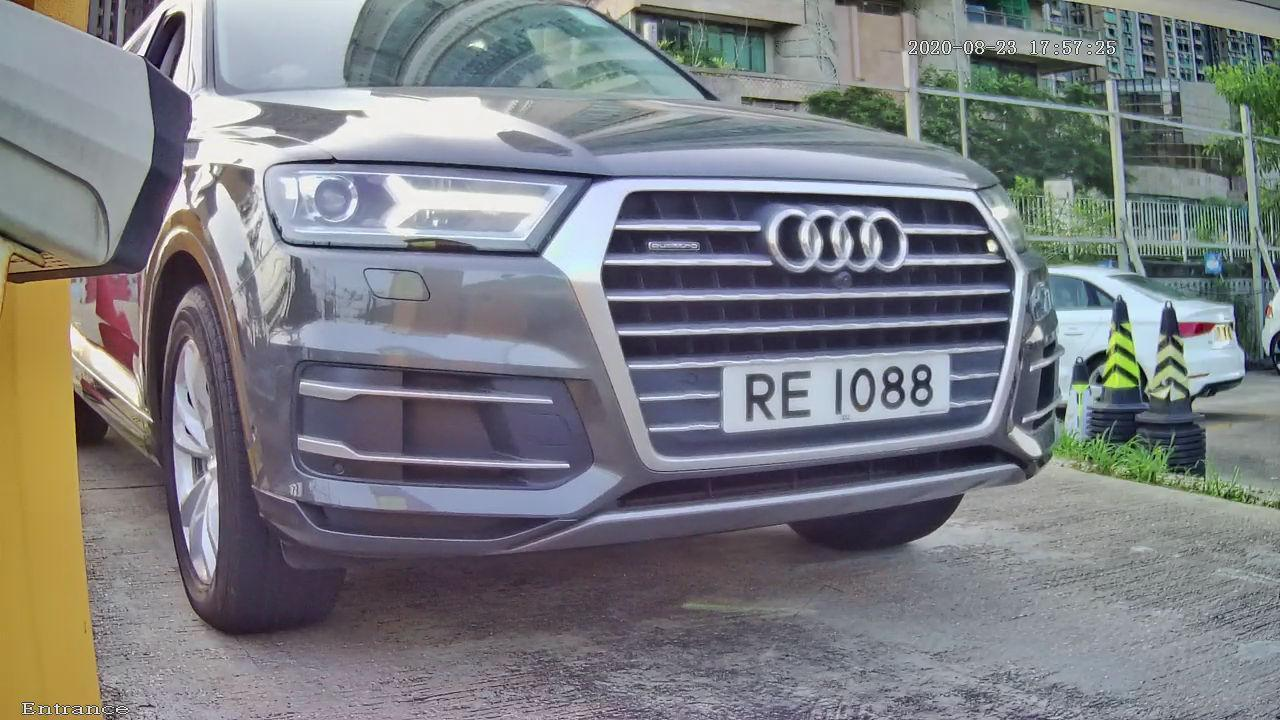Car: (52, 7, 1121, 624)
License Plate: (692, 335, 972, 444)
